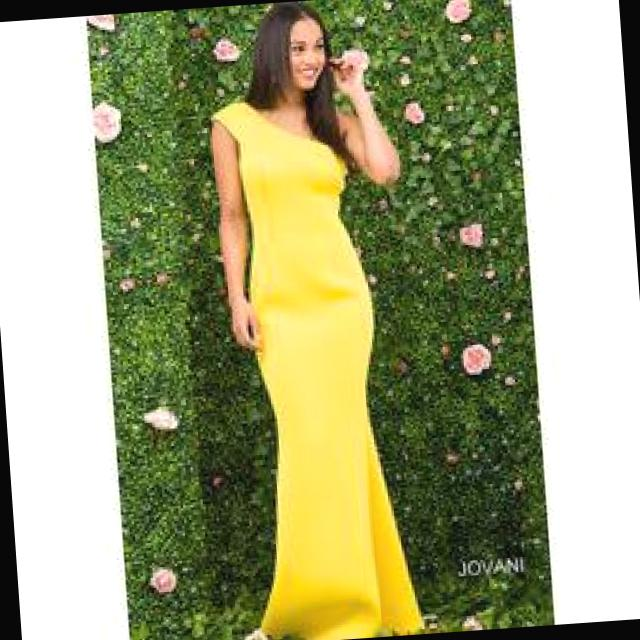dress: (209, 89, 427, 640)
